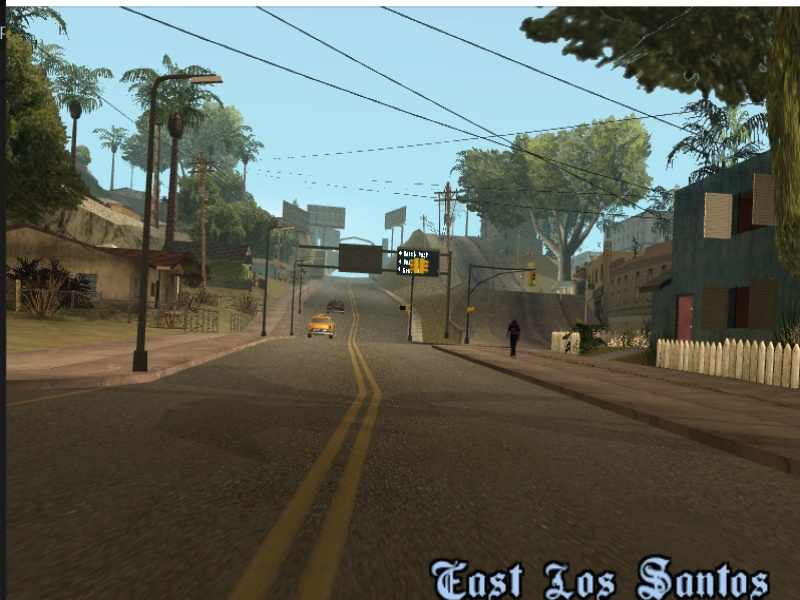person: (503, 318, 524, 356)
pole: (126, 73, 176, 375), (462, 265, 477, 349), (259, 229, 268, 338), (443, 250, 453, 344), (405, 268, 416, 344), (288, 262, 297, 339)
vehicle: (305, 313, 340, 340), (329, 299, 348, 313)
